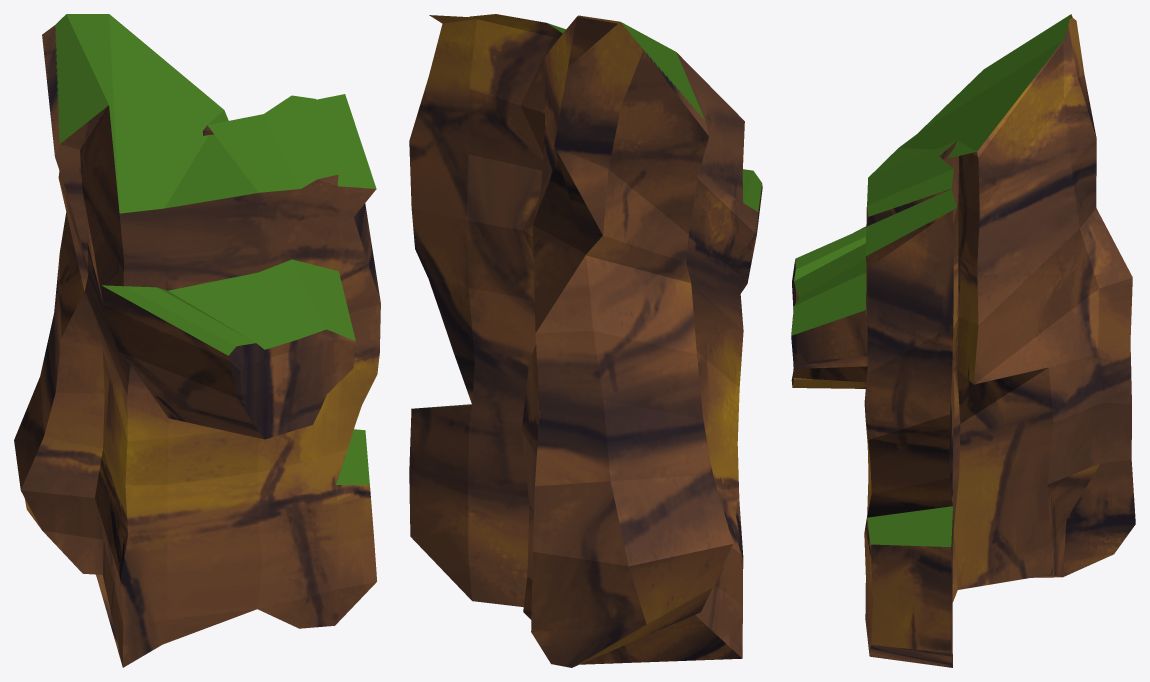
The model's file is sali8cinco.obj.
3 views of the same model, side by side, from view 1: azimuth 30°, elevation 25°; view 2: azimuth 150°, elevation 25°; view 3: azimuth 270°, elevation 25° (orthographic). The views are drawn at different scales.
Visible parts, largest first — view 1: Plane.043_Plane.047; view 2: Plane.043_Plane.047; view 3: Plane.043_Plane.047.
Boxes of the visible parts, box(x1,y1,x2,y2) form: Plane.043_Plane.047: box(14, 14, 380, 667); Plane.043_Plane.047: box(409, 14, 762, 667); Plane.043_Plane.047: box(791, 14, 1135, 667).
Size of the model in its own units: 86.13 by 157 by 84.91.
1 material, 1 textured.
